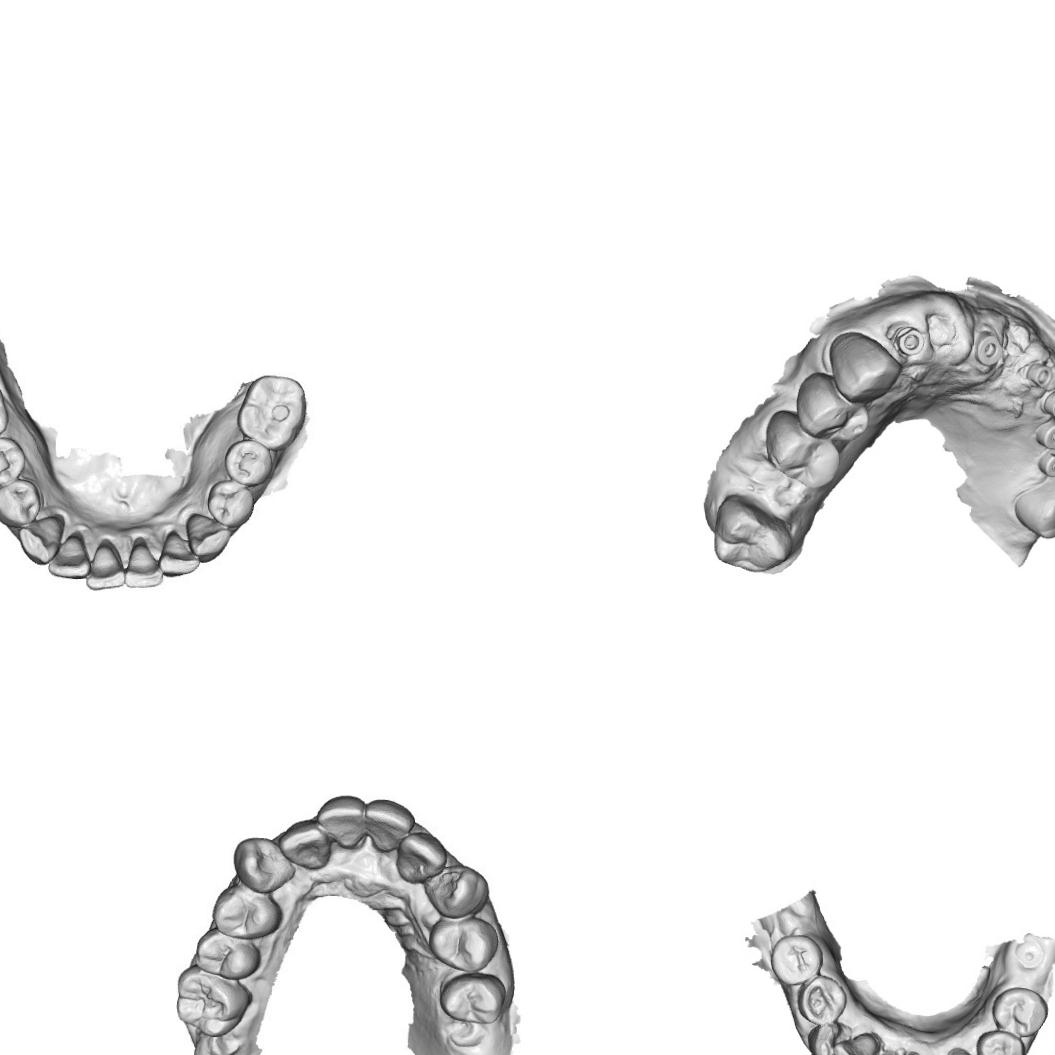canine: (828, 330, 904, 405), (422, 862, 490, 919), (230, 837, 294, 892), (184, 510, 233, 564), (15, 514, 62, 568), (806, 1019, 850, 1055)
implant: (890, 322, 926, 358), (972, 330, 1006, 368), (1012, 938, 1046, 969), (1024, 360, 1055, 390), (1034, 445, 1055, 477), (1033, 418, 1055, 448), (1039, 388, 1055, 419)
incisor: (274, 819, 330, 872), (318, 795, 368, 848), (123, 534, 166, 592), (367, 797, 413, 851), (82, 535, 125, 592), (44, 528, 89, 582), (157, 527, 202, 579), (398, 832, 444, 880), (833, 1031, 880, 1055)
molar: (711, 492, 794, 576), (168, 964, 258, 1038), (236, 372, 308, 452), (1012, 462, 1055, 540)
premolar: (764, 406, 840, 490), (795, 368, 870, 445), (439, 971, 512, 1028), (428, 918, 495, 976), (198, 931, 260, 984), (990, 986, 1048, 1038), (769, 933, 824, 986), (222, 437, 274, 491), (216, 886, 274, 932), (797, 974, 848, 1026), (0, 472, 46, 528), (206, 480, 255, 528), (975, 1026, 1026, 1055), (0, 434, 26, 487)
